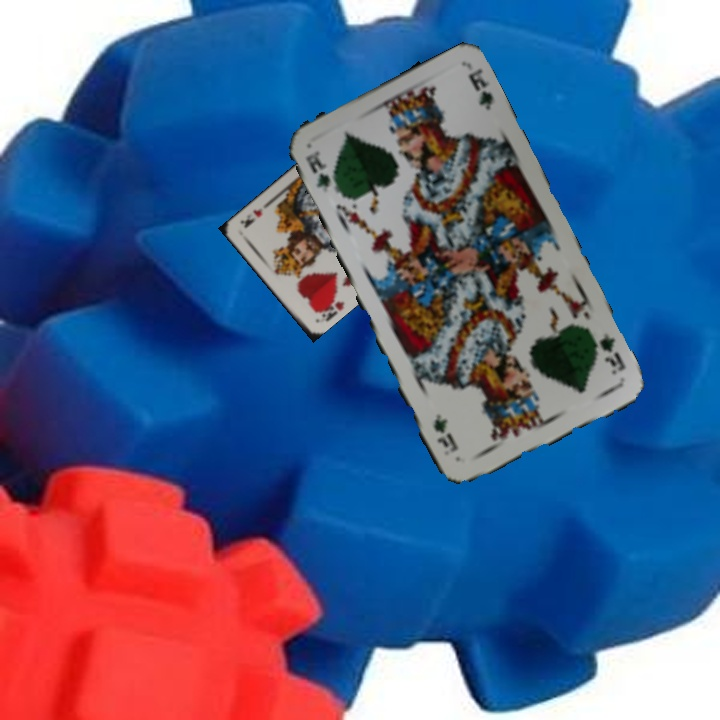GK: (595, 328, 629, 378), (301, 149, 333, 195)
HK: (312, 291, 347, 324)
